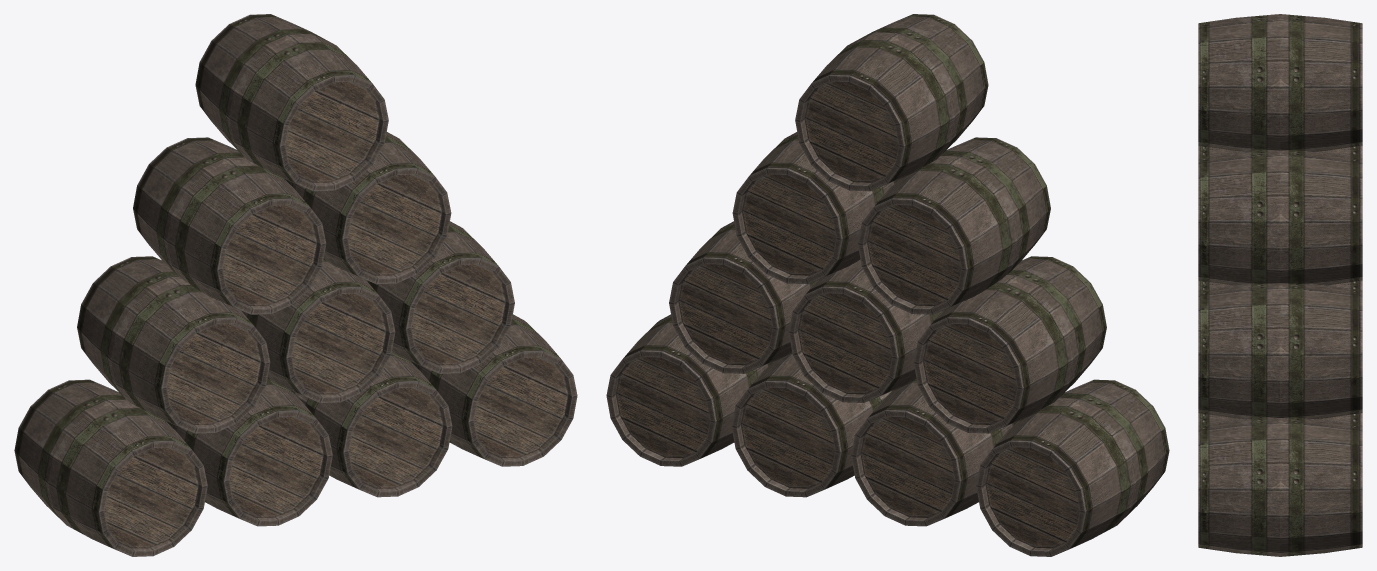
File: barrel_4_011.obj
3 views of the same model, side by side, from view 1: azimuth 30°, elevation 25°; view 2: azimuth 150°, elevation 25°; view 3: azimuth 270°, elevation 25° (orthographic). The views are drawn at different scales.
Parts seen in each view (by area): view 1: Circle.006_Circle.023; view 2: Circle.006_Circle.023; view 3: Circle.006_Circle.023.
Part boxes in pixels (<box>): Circle.006_Circle.023: <box>14,14,577,556</box>; Circle.006_Circle.023: <box>606,14,1169,556</box>; Circle.006_Circle.023: <box>1198,14,1362,556</box>.
Size of the model in its own units: 9.11 by 7.96 by 2.69.
